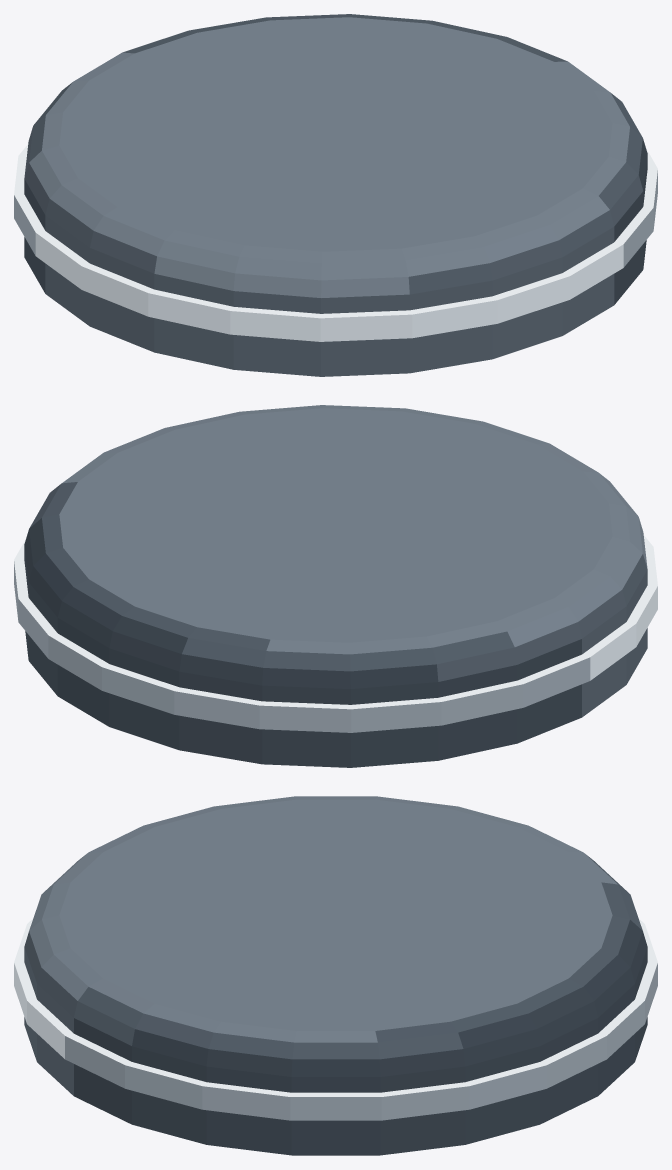
The model's file is Button_ResetBase.gltf.
3 views of the same model, one above another, from view 1: azimuth 30°, elevation 25°; view 2: azimuth 150°, elevation 25°; view 3: azimuth 270°, elevation 25° (orthographic).
Parts seen in each view (by area): view 1: Button_ResetBase_baked; view 2: Button_ResetBase_baked; view 3: Button_ResetBase_baked.
Part boxes in pixels (x1,y1,x2,y2): Button_ResetBase_baked: [14, 14, 657, 376]; Button_ResetBase_baked: [14, 405, 657, 767]; Button_ResetBase_baked: [14, 796, 657, 1155].
Size of the model in its own units: 0.7364 by 0.14 by 0.744.
